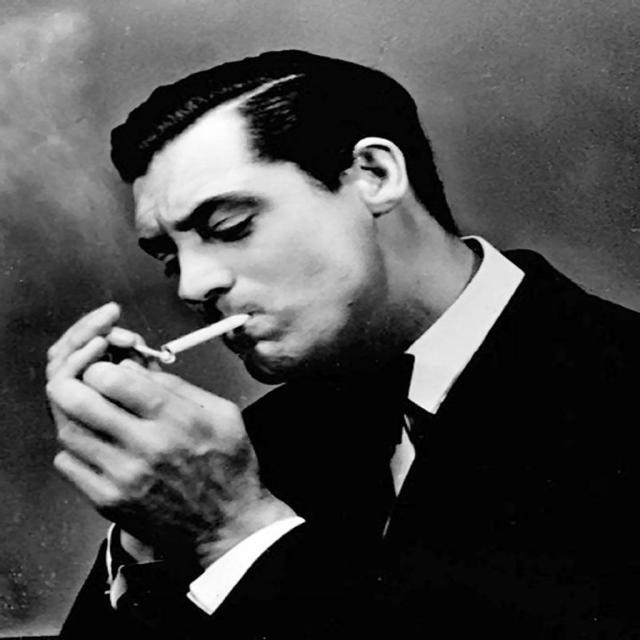smoking: (65, 49, 474, 415)
